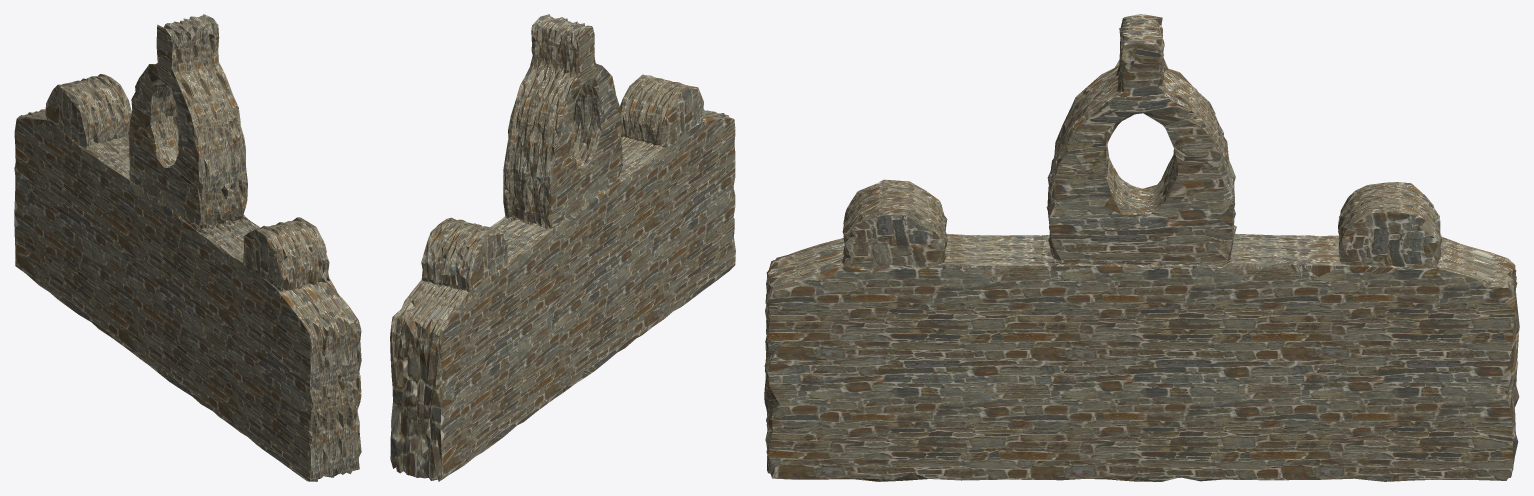
Rendered from Altar.glb.
The picture shows the model from 3 angles, left to right: view 1: azimuth 30°, elevation 25°; view 2: azimuth 150°, elevation 25°; view 3: azimuth 270°, elevation 25°; orthographic projection. The views are drawn at different scales.
Parts seen in each view (by area): view 1: Altar.003; view 2: Altar.003; view 3: Altar.003.
Part boxes in pixels (x1,y1,x2,y2): Altar.003: [14, 14, 361, 481]; Altar.003: [390, 14, 735, 481]; Altar.003: [764, 14, 1519, 481].
Bounding box in the file's own units: 2.75 × 17.75 × 27.64.
1 material, 1 textured.
